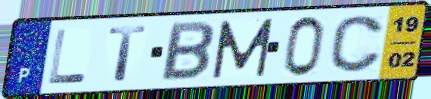0: (282, 14, 327, 78)
B: (158, 20, 218, 83)
C: (327, 13, 386, 74)
L: (47, 28, 90, 86)
M: (210, 17, 277, 81)
T: (107, 24, 150, 83)
